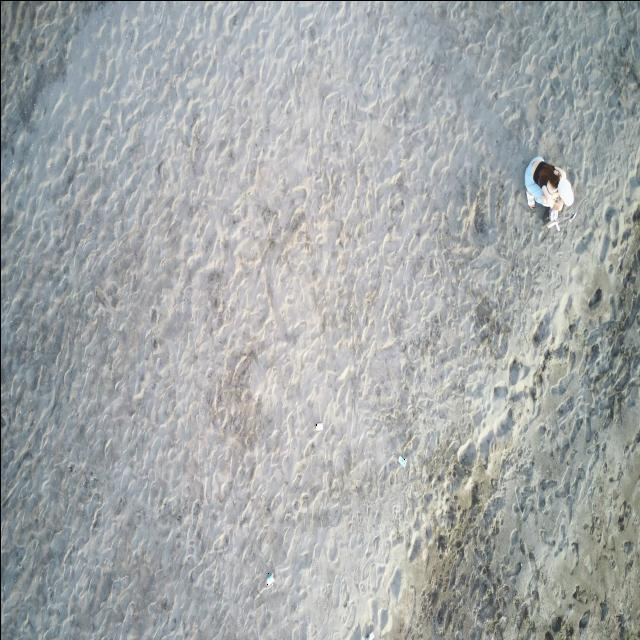Garbage: (397, 455, 406, 467), (267, 572, 272, 586), (315, 423, 323, 430), (364, 632, 372, 639)
